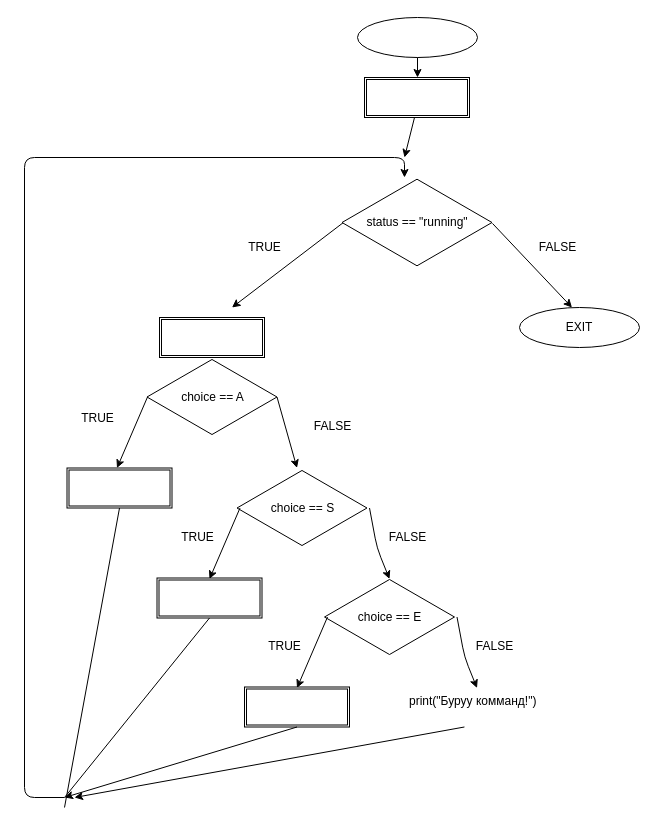
Image size: 657x826. Some labels were removed from this diagram. Each missing label, with the centre of its shape:
BEGIN: [417,37]
status = "done": [297,706]
